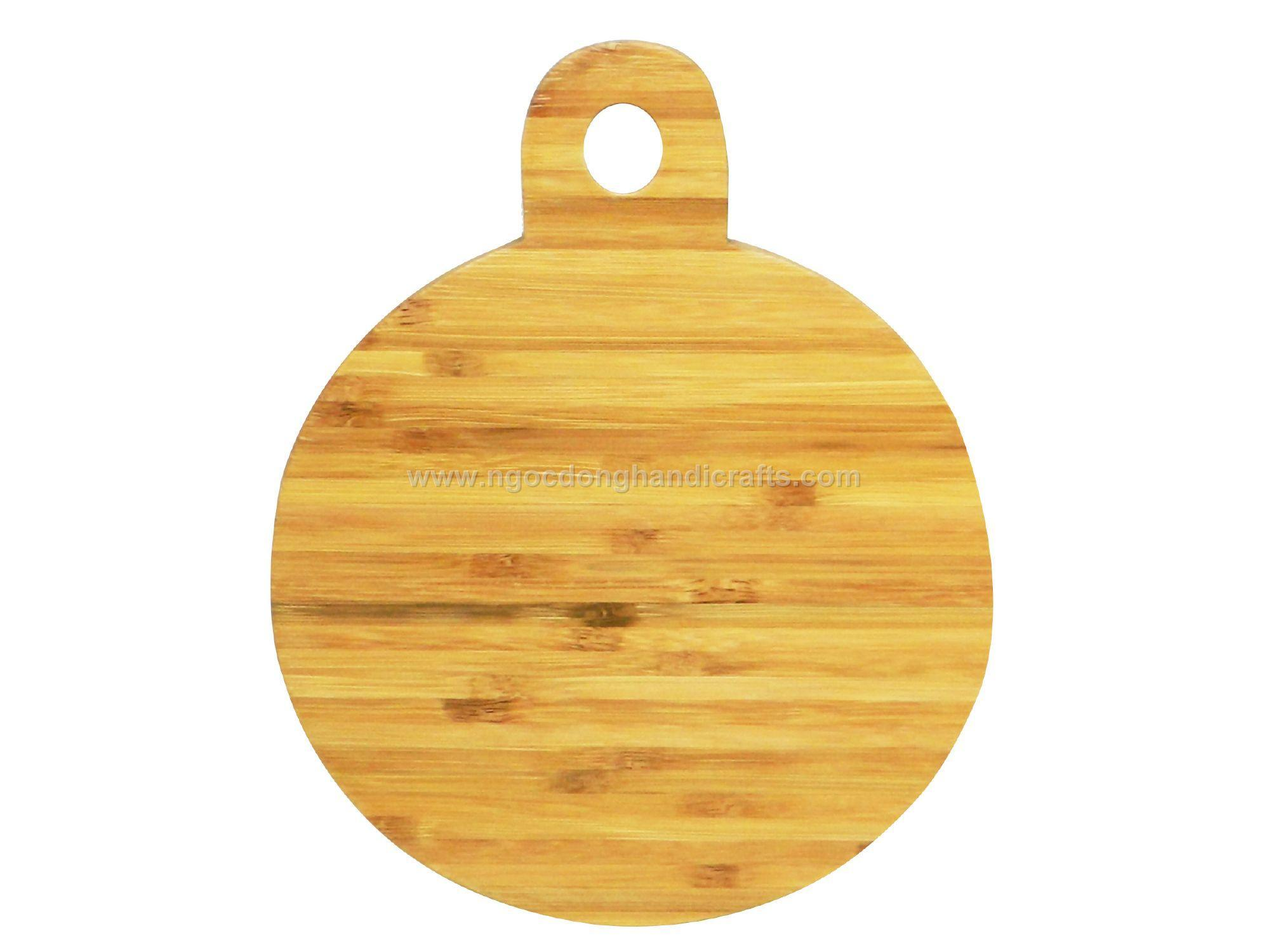gloved_hand: (252, 26, 1006, 931)
